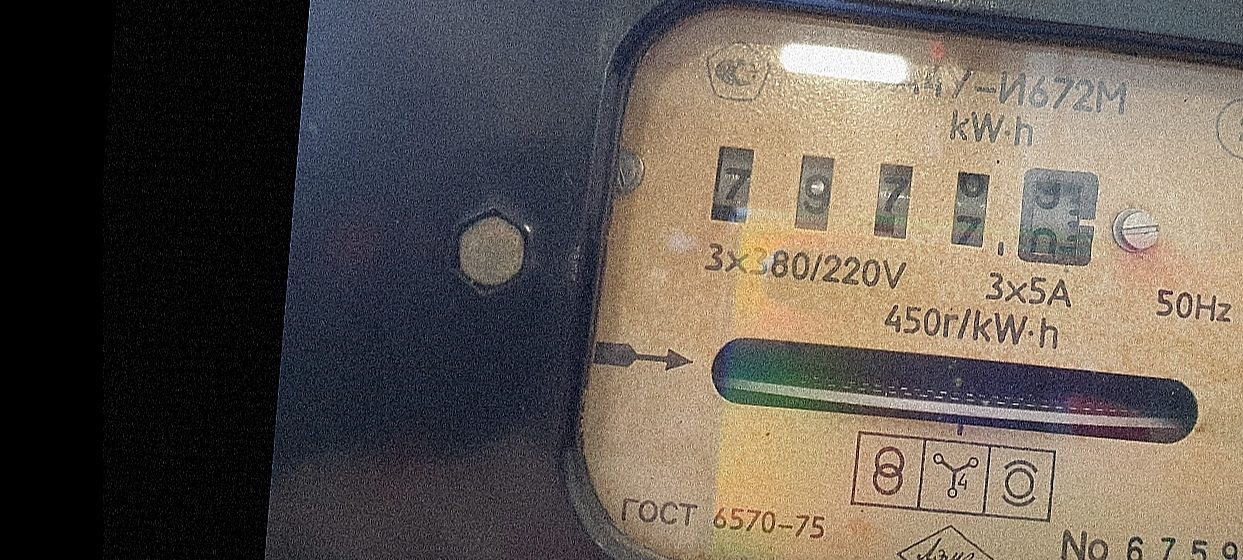0: (1026, 221, 1062, 262)
7: (878, 172, 912, 217), (720, 163, 753, 208), (952, 211, 985, 249)
9: (799, 170, 836, 217), (1032, 174, 1066, 212)
screen: (689, 121, 1126, 291)
